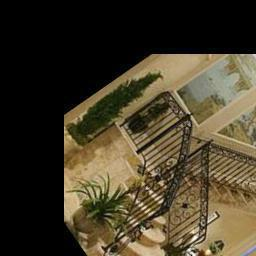Escaleras: (45, 91, 253, 256), (159, 91, 256, 256)
Matera: (34, 61, 175, 174), (56, 171, 140, 251), (125, 99, 174, 140)
